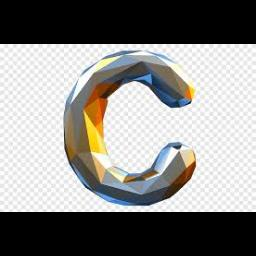c: (58, 46, 206, 208)
